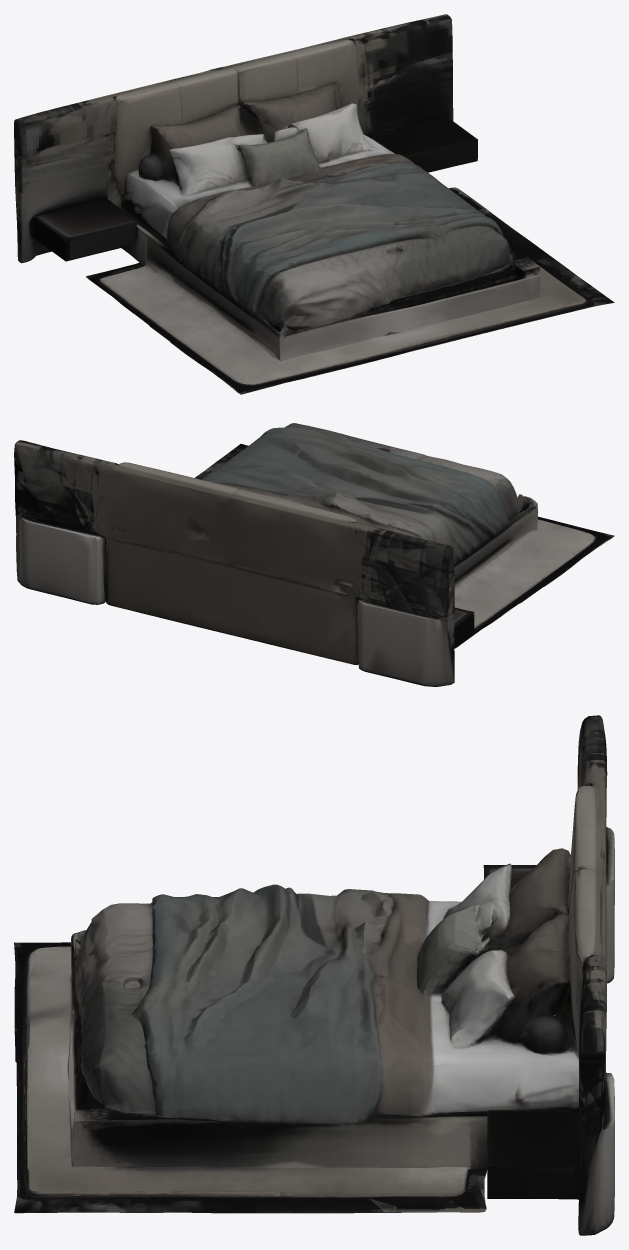
The model's file is sample(4).gltf.
3 renders of one model, top to bottom at view 1: azimuth 30°, elevation 25°; view 2: azimuth 150°, elevation 25°; view 3: azimuth 270°, elevation 25°, orthographic. The views are drawn at different scales.
Parts seen in each view (by area): view 1: world; view 2: world; view 3: world.
Part boxes in pixels (bbox=[...]): world: bbox=[14, 14, 614, 394]; world: bbox=[14, 423, 614, 686]; world: bbox=[14, 715, 614, 1235].
Size of the model in its own units: 1 by 0.3113 by 0.8075.
1 material, 1 textured.
